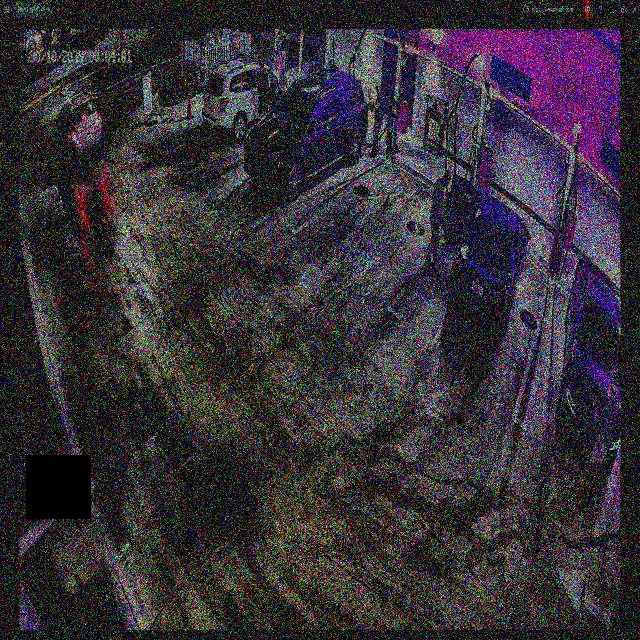Car: (242, 69, 367, 196), (443, 175, 530, 338)
